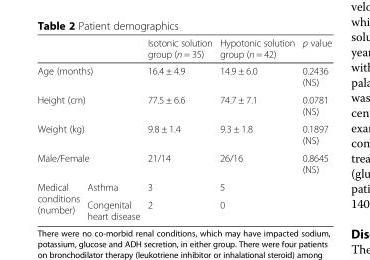table: (36, 36, 331, 221)
table column: (215, 36, 297, 221), (143, 36, 215, 221), (82, 36, 143, 221), (36, 36, 82, 221), (297, 36, 331, 221)
table column header: (36, 36, 331, 62)
table row: (36, 90, 331, 119), (36, 119, 331, 148), (36, 148, 331, 177), (36, 62, 331, 90), (36, 36, 331, 62), (36, 195, 331, 221), (36, 177, 331, 195)
table spanning cell: (36, 90, 143, 119), (36, 119, 143, 148), (36, 148, 143, 177), (36, 62, 143, 90), (36, 177, 82, 221)
